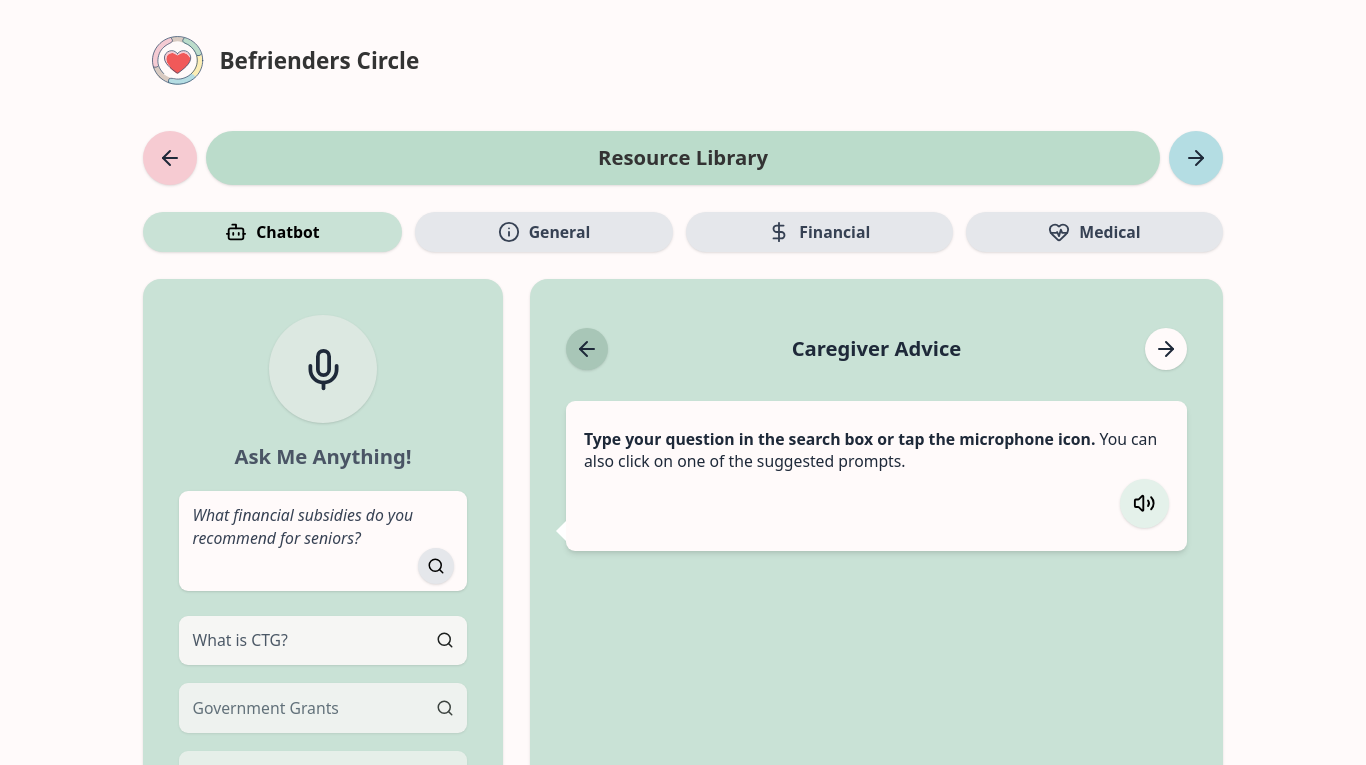
<TagsPanel /> › shows tag filters when category is selected and displays resource cards when specific tag is clicked
Click on a top-level tag (category) to filter resources
Click the button "General" at (544, 232), box [415,212,672,252]
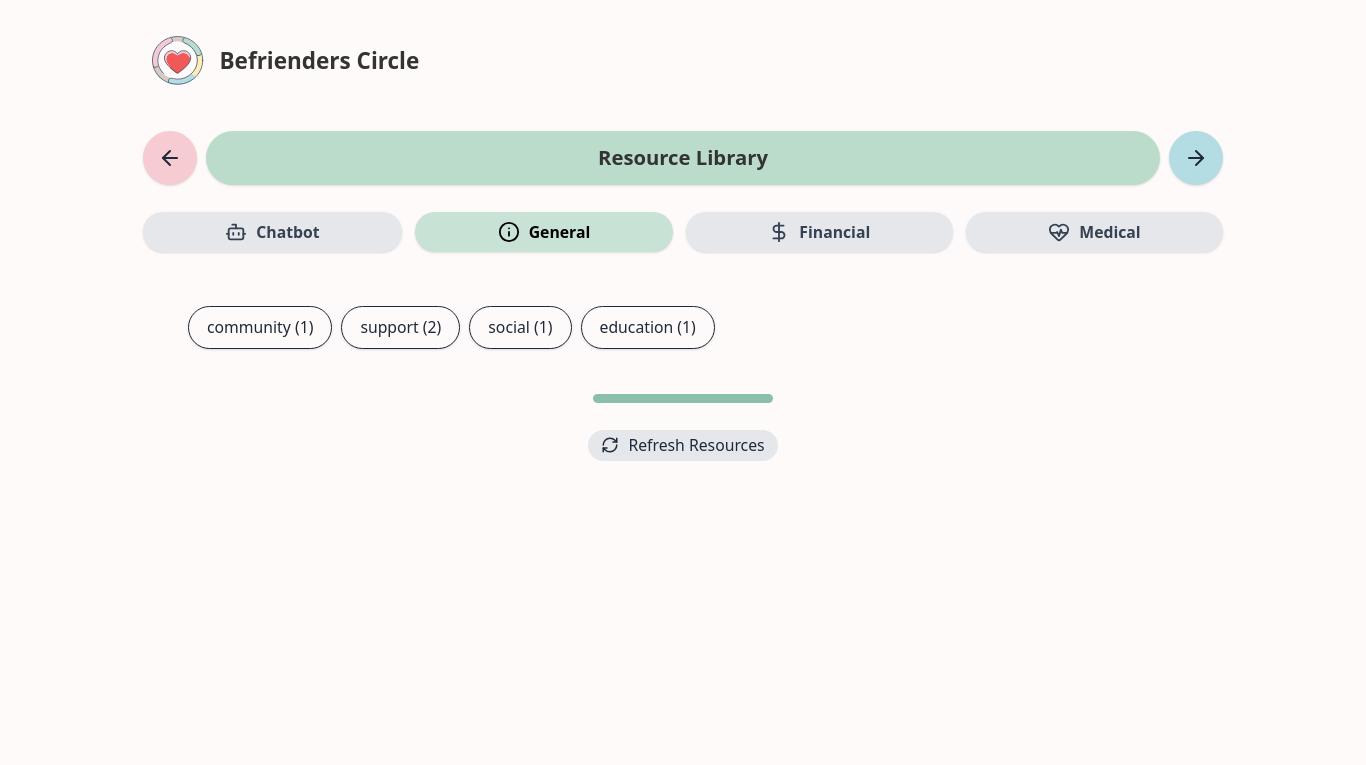
Expected: the text "support (2)" is shown
Expected: the text "community (1)" is shown, [188,306,332,348]
Expected: the text "social (1)" is shown, [469,306,572,348]
Click on a specific tag to show filtered resources
Click the text "support (2)" at (401, 327), box [341,306,460,348]
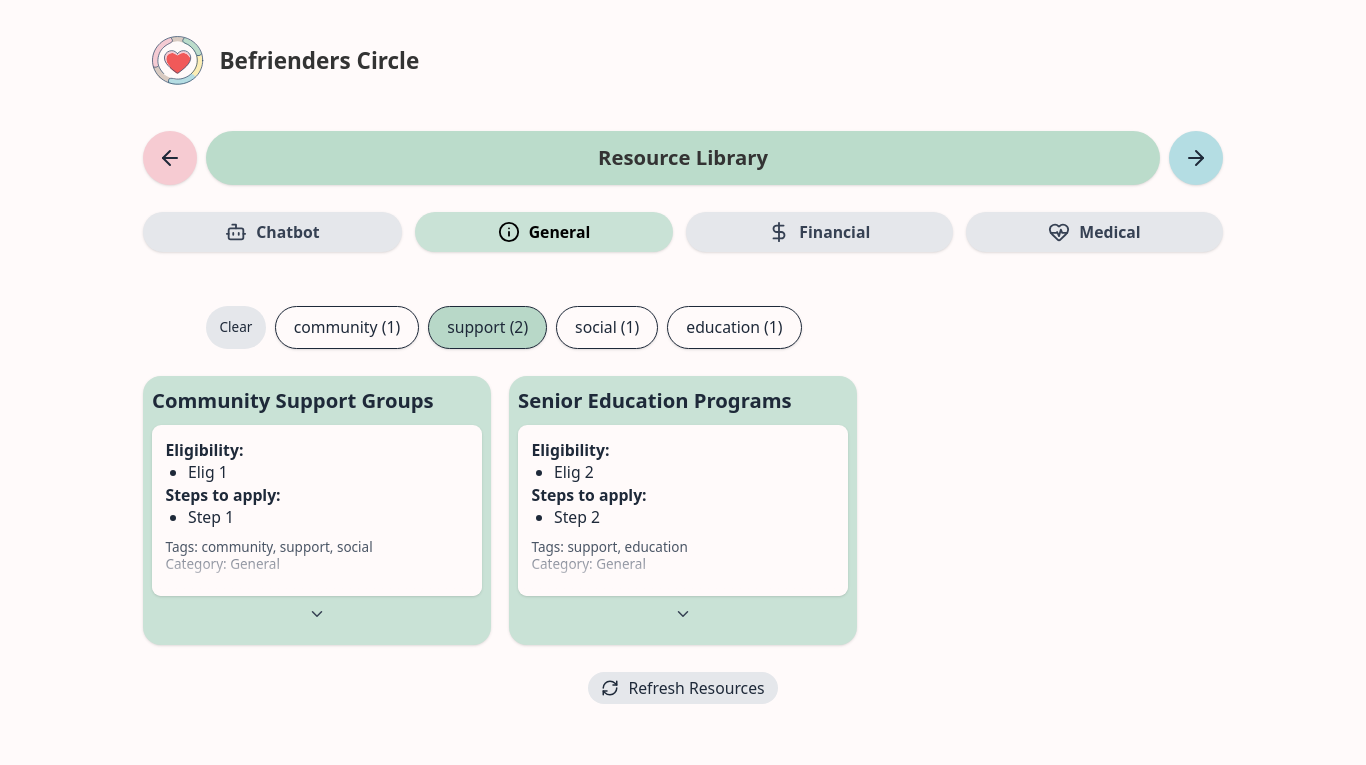
Expected: the heading "Community Support Groups" is shown, [152,384,482,416]
Expected: the heading "Senior Education Programs" is shown, [518,386,792,414]
